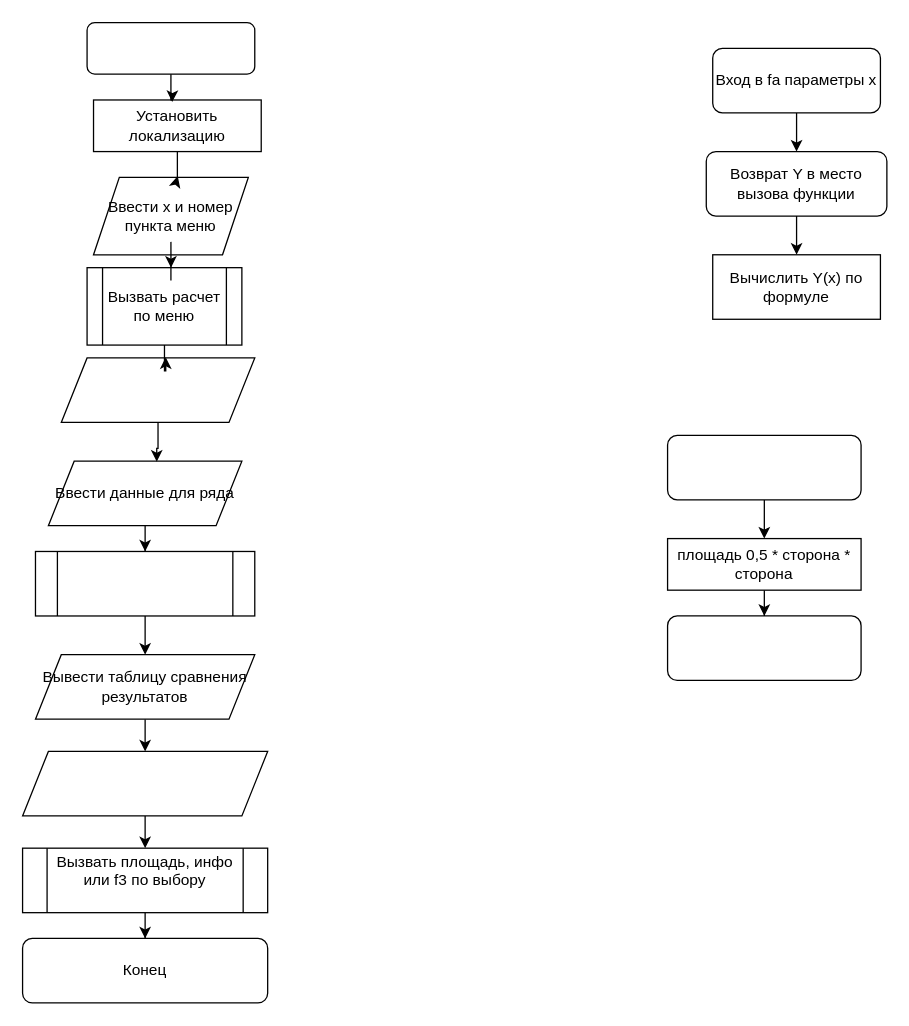
The diagram is 909 pixels wide and 1026 high, and some of its shapes have lost their labels. The shapes that lost their labels are listed below. From the top down, each one's box as (x1, y1, x2, y2) in pixels, then its label:
(86, 21, 255, 74): Начало
(60, 357, 255, 422): Вывести результат расчета функций
(666, 434, 861, 500): Вход в area_triangle параметры:сторона
(34, 550, 255, 616): Вызвать cot_stand, cot_n, cot_eps
(666, 615, 861, 680): Возврат площади в место вызова функции
(21, 750, 268, 816): Ввести выбор операции для треугольника
